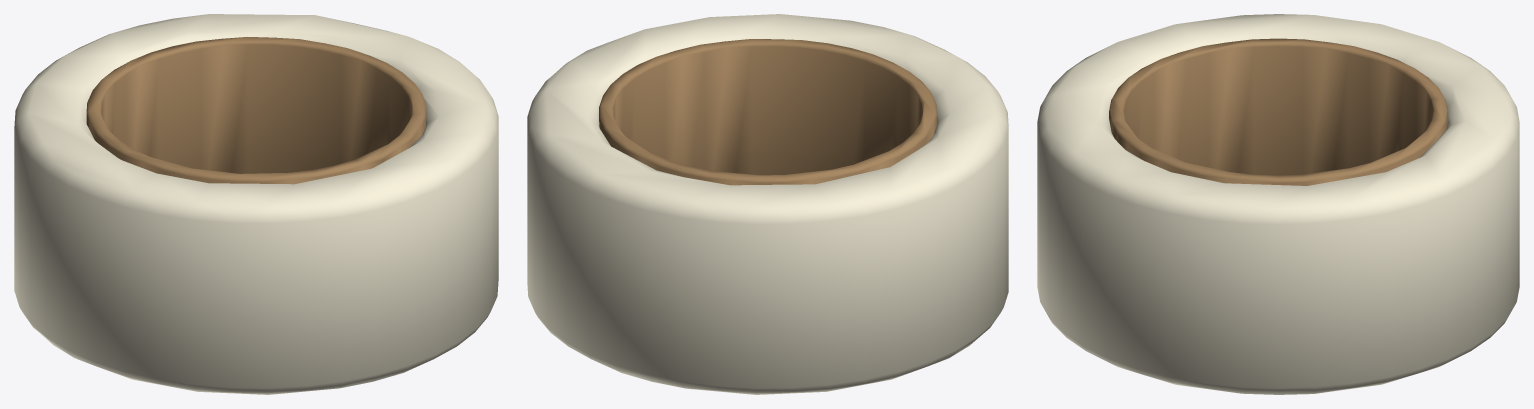
File: PIN-FER-007_lod1.glb
The picture shows the model from 3 angles, left to right: view 1: azimuth 30°, elevation 25°; view 2: azimuth 150°, elevation 25°; view 3: azimuth 270°, elevation 25°; orthographic projection.
Parts seen in each view (by area): view 1: PIN-FER-007_fita, PIN-FER-007_tubete; view 2: PIN-FER-007_fita, PIN-FER-007_tubete; view 3: PIN-FER-007_fita, PIN-FER-007_tubete.
Boxes of the visible parts, <box> form: PIN-FER-007_fita: <box>14,14,498,394</box>; PIN-FER-007_tubete: <box>86,37,426,184</box>; PIN-FER-007_fita: <box>527,14,1008,394</box>; PIN-FER-007_tubete: <box>599,39,936,185</box>; PIN-FER-007_fita: <box>1037,14,1519,394</box>; PIN-FER-007_tubete: <box>1109,38,1447,185</box>.
Size of the model in its own units: 0.1095 by 0.0479 by 0.1095.
Materials: 2 (1 with a texture image).
